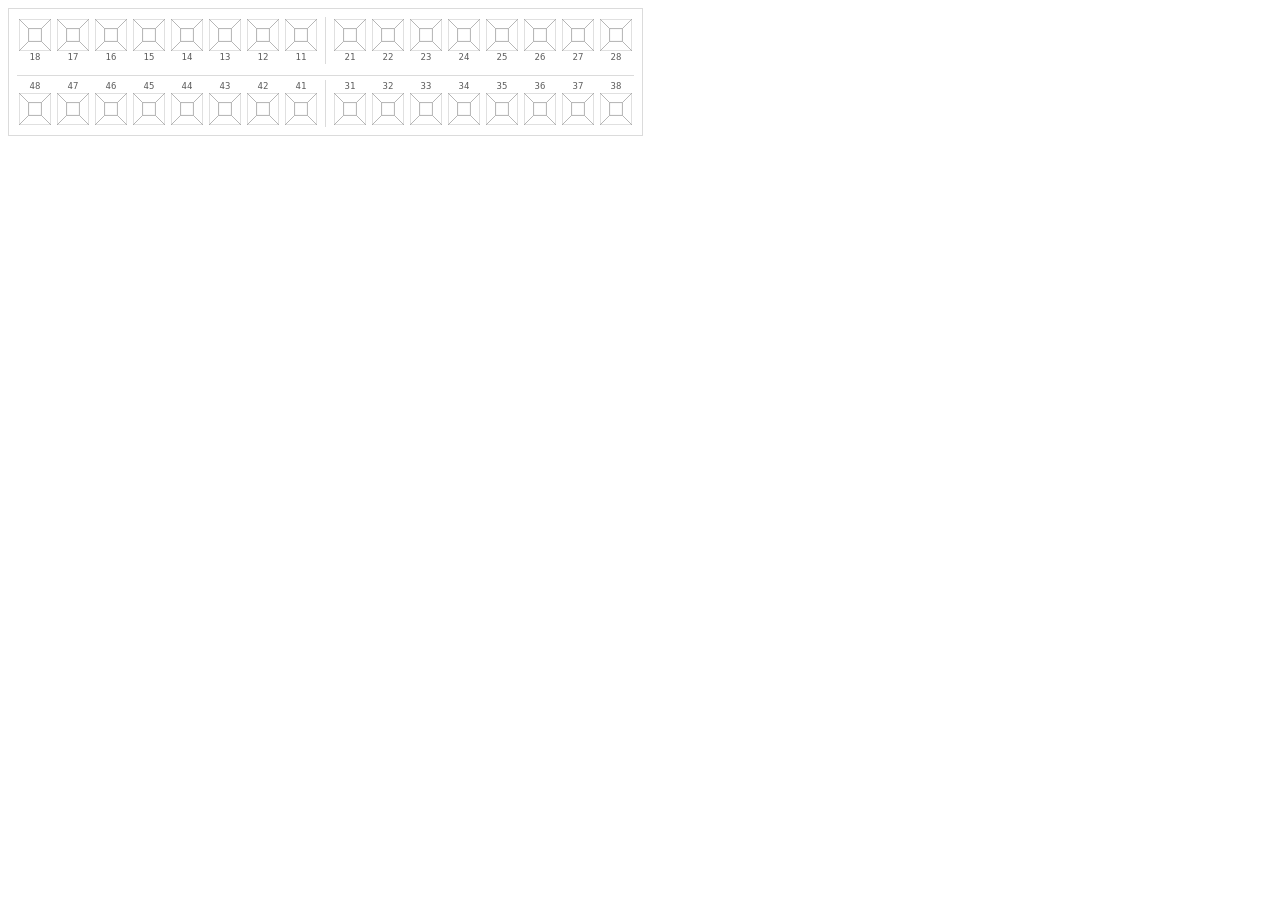
Odontogram — notas › saving closes the note popover
Click the button "11" at (301, 40), box [283,17,319,64]
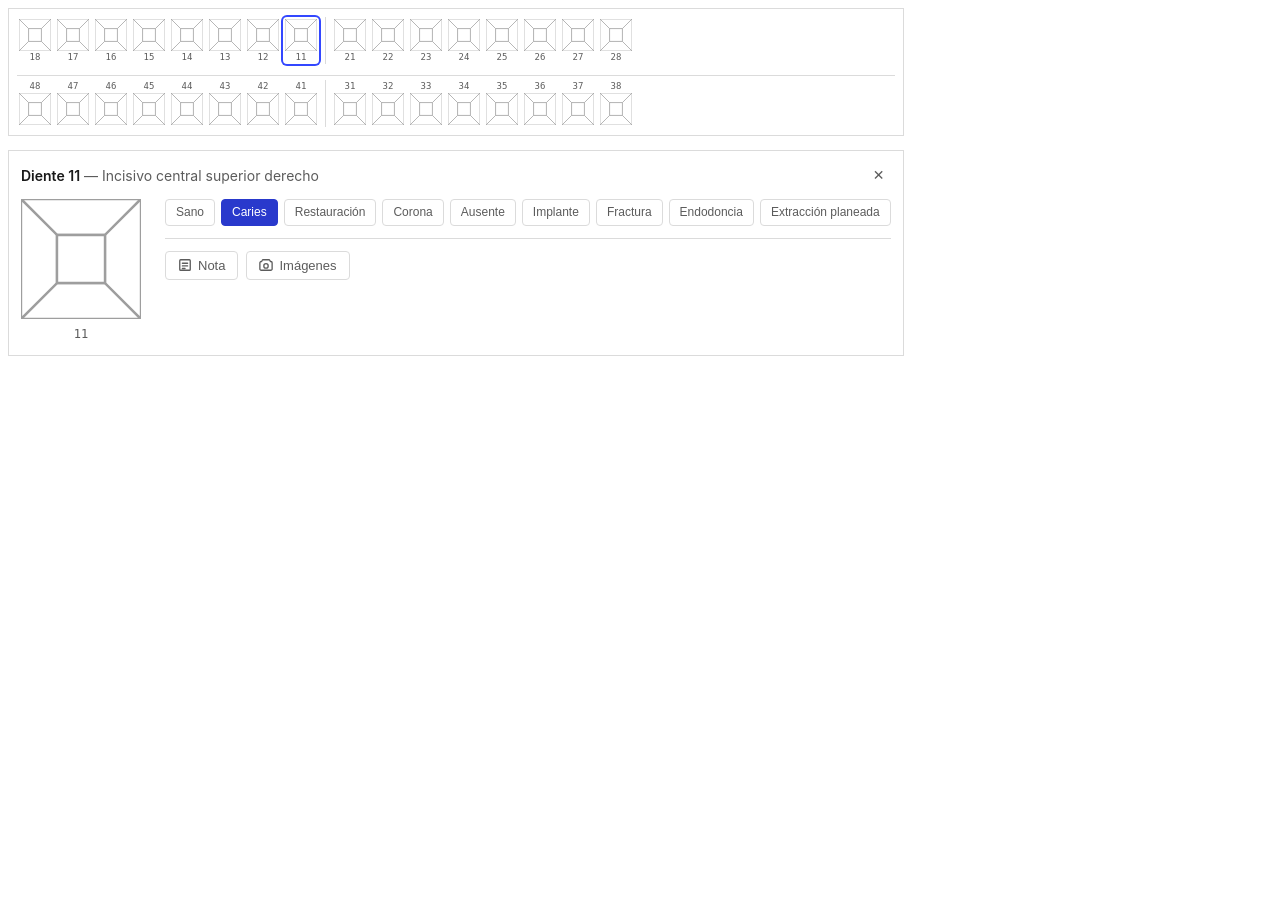
Click the button with aria-label "Nota del diente 11" at (202, 265), box [165,251,238,280]
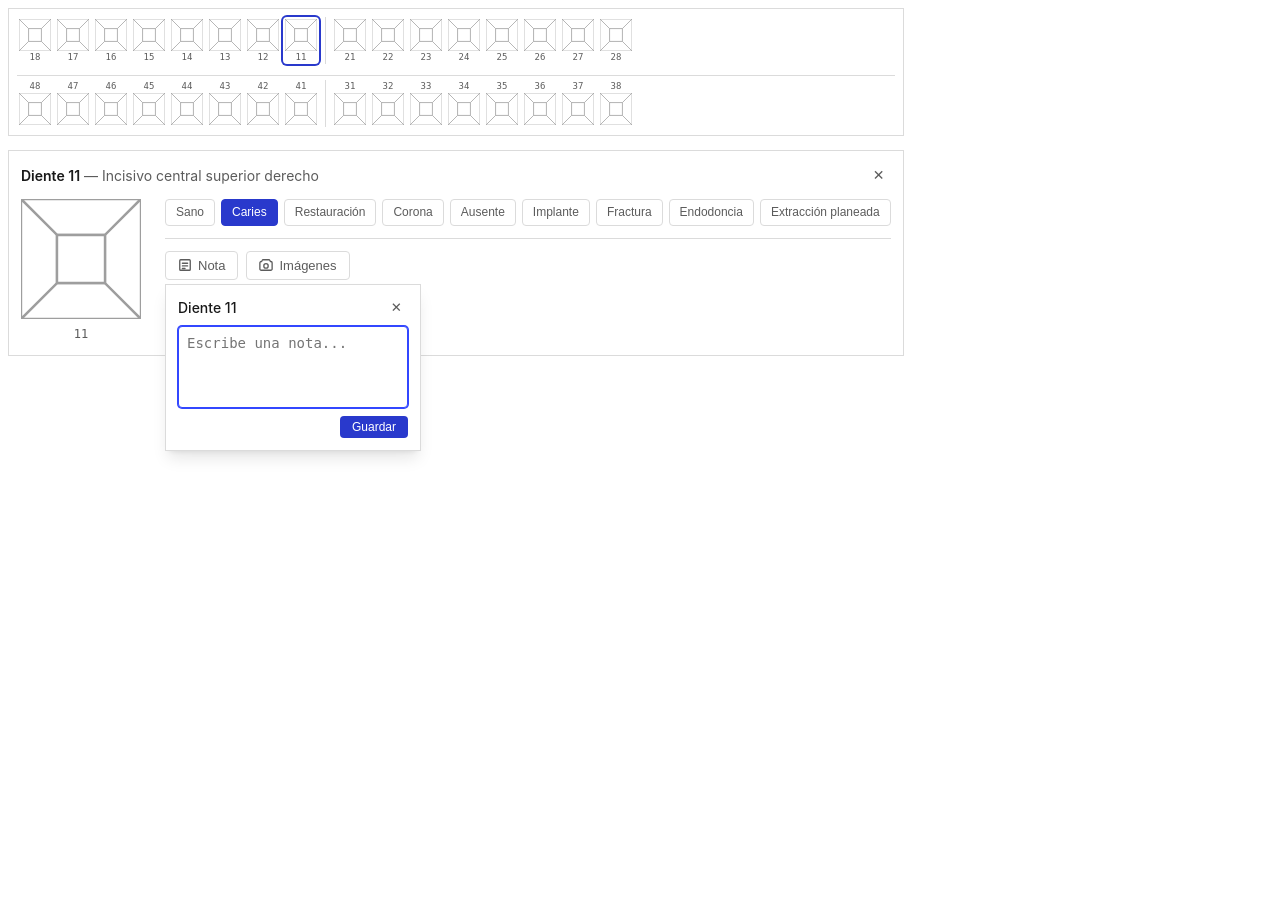
Click the button "Guardar" at (374, 427), box [340,416,408,438]
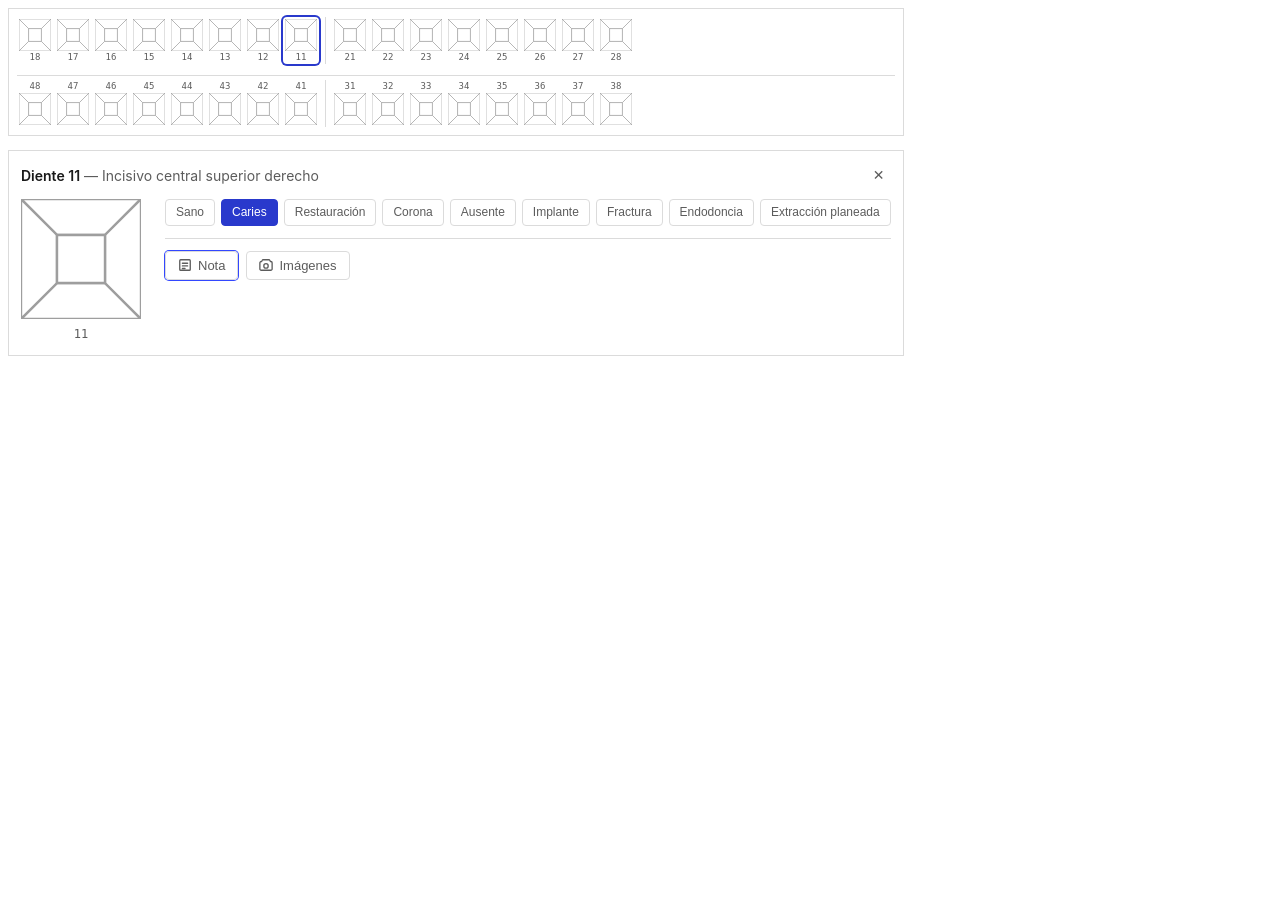
Check: the dialog is gone
